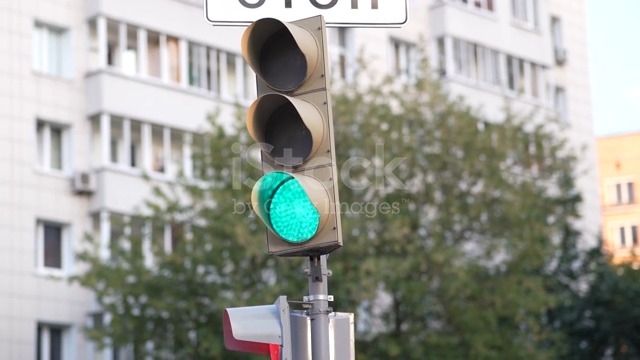green traffic light: (235, 19, 343, 259)
